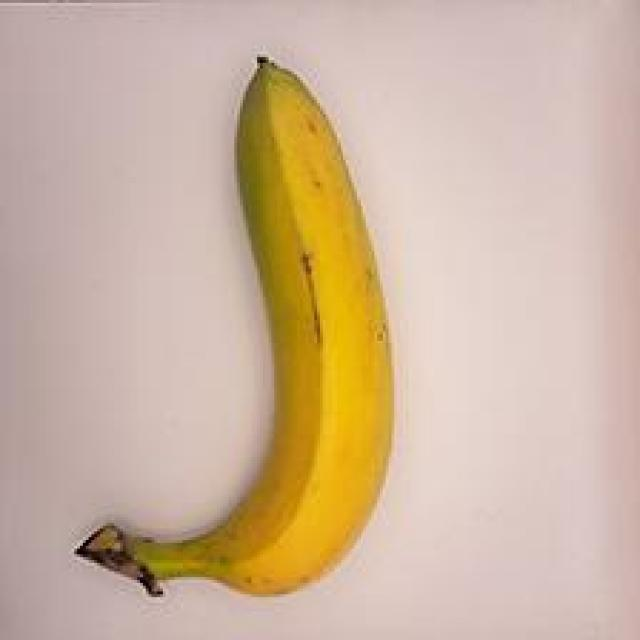Ripe: (39, 35, 436, 611)
